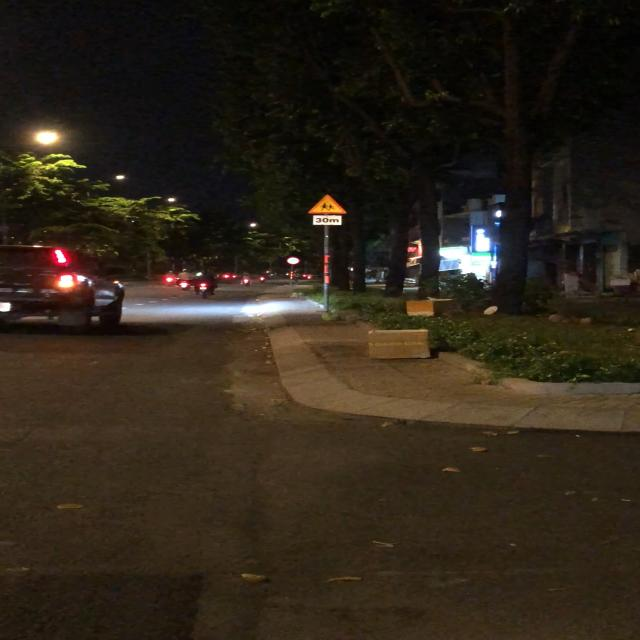Bien bao tre em: (304, 192, 350, 215)
